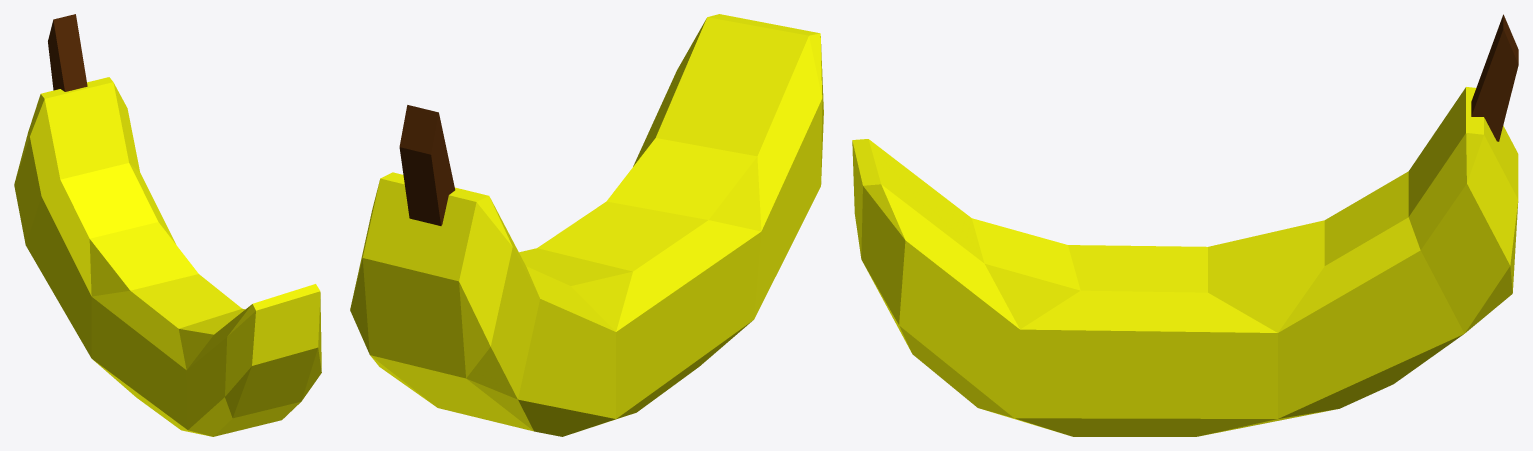
File: pixel banana.fbx
3 views of the same model, side by side, from view 1: azimuth 30°, elevation 25°; view 2: azimuth 150°, elevation 25°; view 3: azimuth 270°, elevation 25° (orthographic). The views are drawn at different scales.
Visible parts, largest first — view 1: Cube, Куб; view 2: Cube, Куб; view 3: Cube, Куб.
Boxes of the visible parts, x1,y1,x2,y2 form: Cube: (14, 77, 321, 436); Куб: (48, 14, 87, 91); Cube: (350, 14, 823, 436); Куб: (399, 105, 455, 225); Cube: (852, 87, 1518, 436); Куб: (1471, 14, 1518, 141).
Bounding box in the file's own units: 43.79 × 109 × 165.
